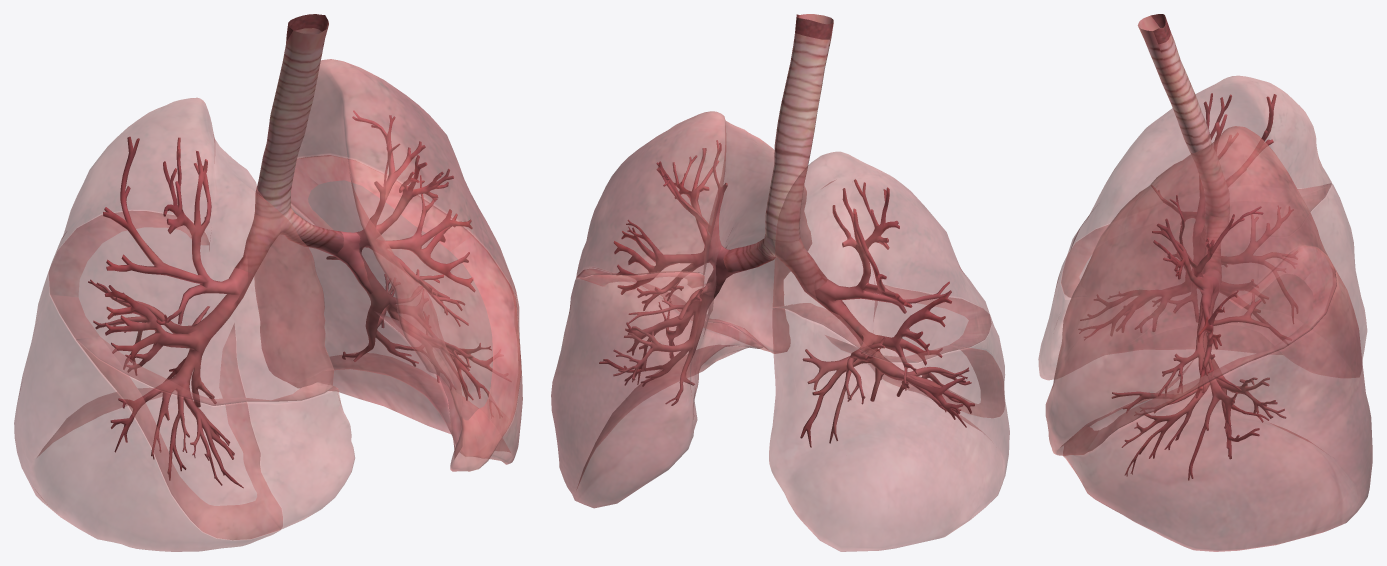
Rendered from 2.5 Bronchi & Bronchioles.glb.
The picture shows the model from 3 angles, left to right: view 1: azimuth 30°, elevation 25°; view 2: azimuth 150°, elevation 25°; view 3: azimuth 270°, elevation 25°; orthographic projection. The views are drawn at different scales.
Parts seen in each view (by area): view 1: R_Lung, L_Lung, Bronchial_Tree, Trachea, L_Bronchus, R_Bronchus; view 2: R_Lung, L_Lung, Bronchial_Tree, Trachea, R_Bronchus, L_Bronchus; view 3: L_Lung, R_Lung, Bronchial_Tree, Trachea, L_Bronchus.
Part boxes in pixels (x1,y1,x2,y2): R_Lung: [14, 97, 354, 551]; L_Lung: [254, 59, 522, 471]; Bronchial_Tree: [88, 110, 511, 488]; Trachea: [255, 14, 328, 218]; L_Bronchus: [278, 206, 343, 255]; R_Bronchus: [235, 212, 280, 273]; R_Lung: [769, 151, 1009, 551]; L_Lung: [551, 111, 811, 508]; Bronchial_Tree: [599, 140, 974, 447]; Trachea: [765, 14, 833, 241]; R_Bronchus: [773, 238, 827, 291]; L_Bronchus: [723, 234, 777, 274]; L_Lung: [1045, 126, 1372, 551]; R_Lung: [1038, 75, 1367, 380]; Bronchial_Tree: [1079, 93, 1297, 480]; Trachea: [1137, 14, 1229, 216]; L_Bronchus: [1204, 213, 1229, 275].
Size of the model in its own units: 0.272 by 0.2981 by 0.203.
Materials: 3 (3 with a texture image).
